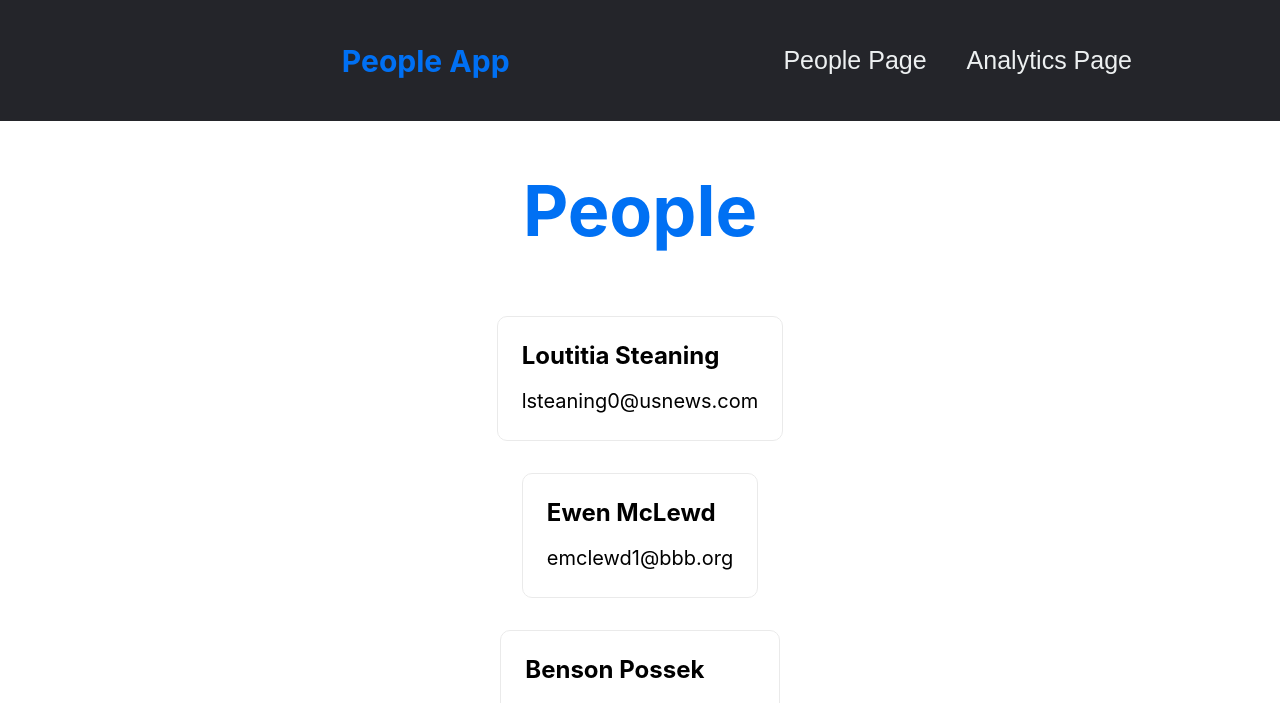
Test: Home Page Tests › Should Navigate to Person Page and form should be prefilled with data
Click the link "Loutitia Steaning lsteaning0@usnews.com".
click(621, 355)  # box [497,316,784,441]
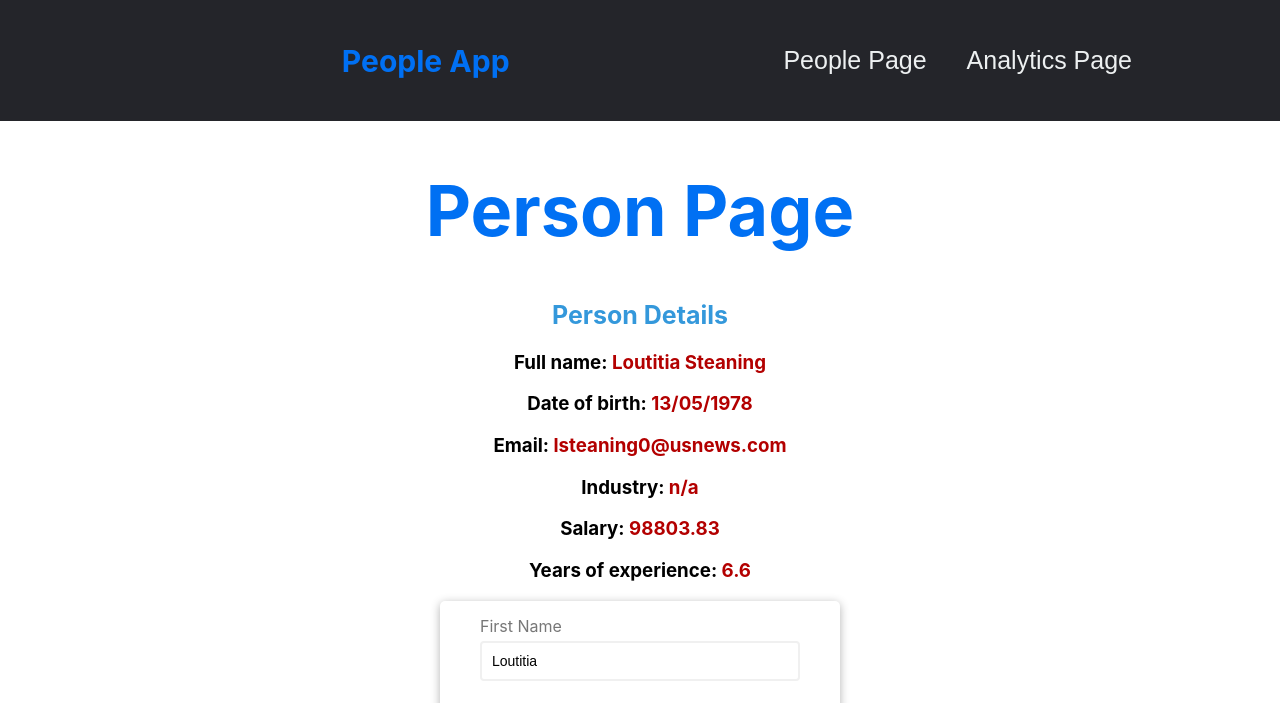
Now the field named "first_name" holds "Loutitia", box [480,641,800,681]
